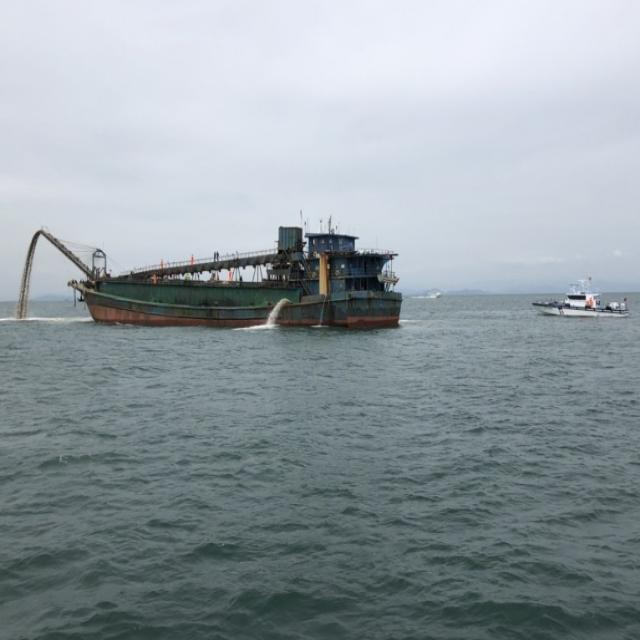cargoship: (70, 210, 398, 334)
houseboat: (530, 278, 633, 320)
